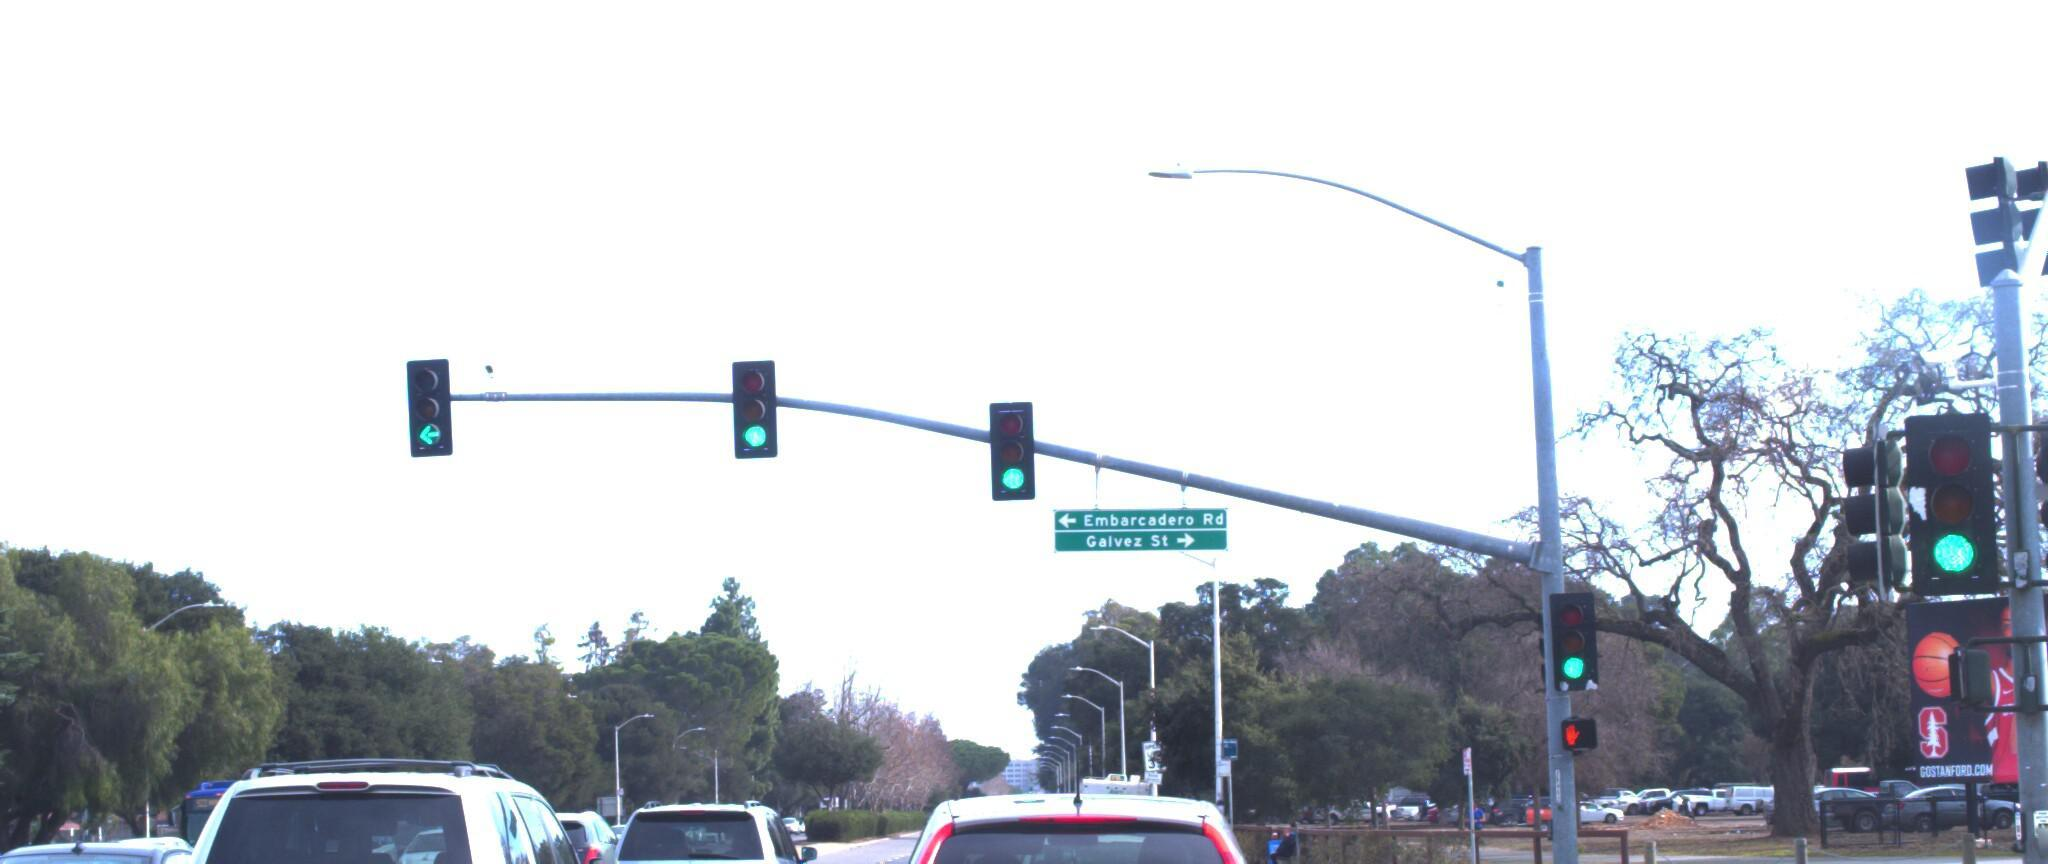car: (132, 739, 635, 864), (828, 753, 1337, 864), (581, 773, 822, 864), (0, 794, 285, 864), (2000, 787, 2048, 864), (0, 829, 30, 864)
